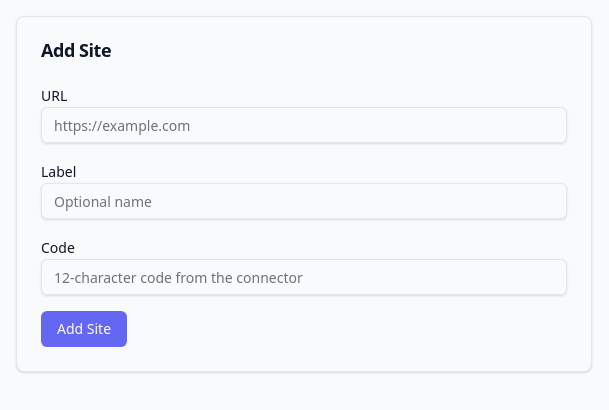
SiteAdd › shows a field error for an http (non-https) URL
Type "http://insecure.test" into the field labelled "URL" at (304, 125), box [41, 107, 567, 143]
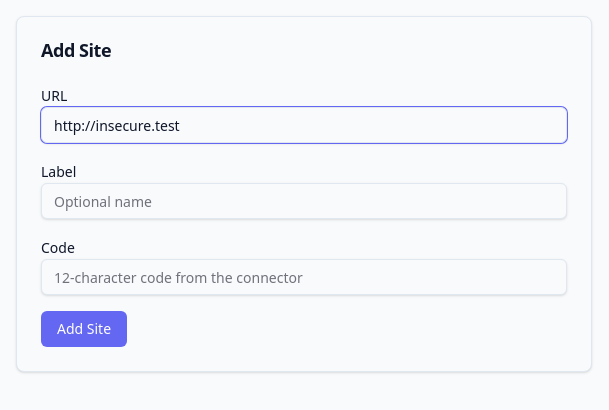
Type "ABCDEFGH2345" into the field labelled "Code" at (304, 277), box [41, 259, 567, 295]
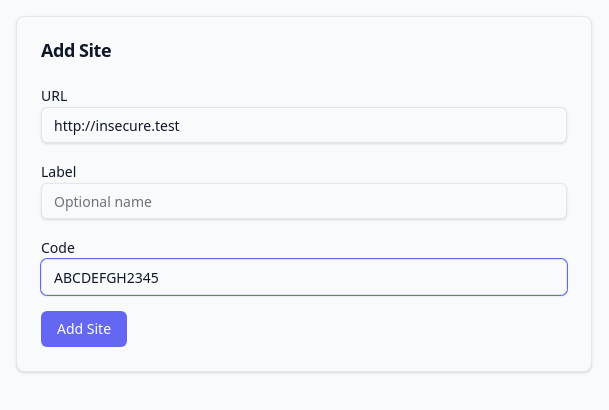
Click the button "Add Site" at (84, 329), box [41, 311, 127, 347]
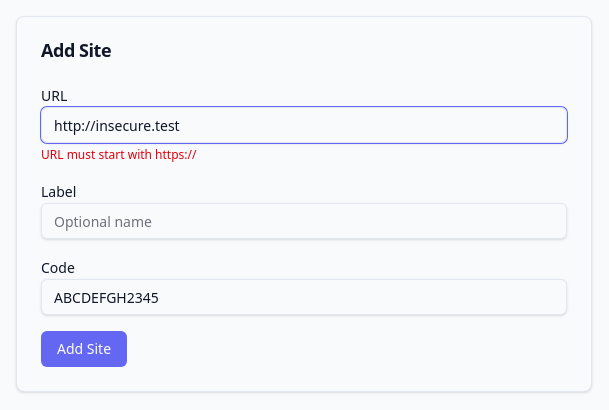
Expected: the text "URL must start with https://" is shown, [41, 146, 196, 163]
